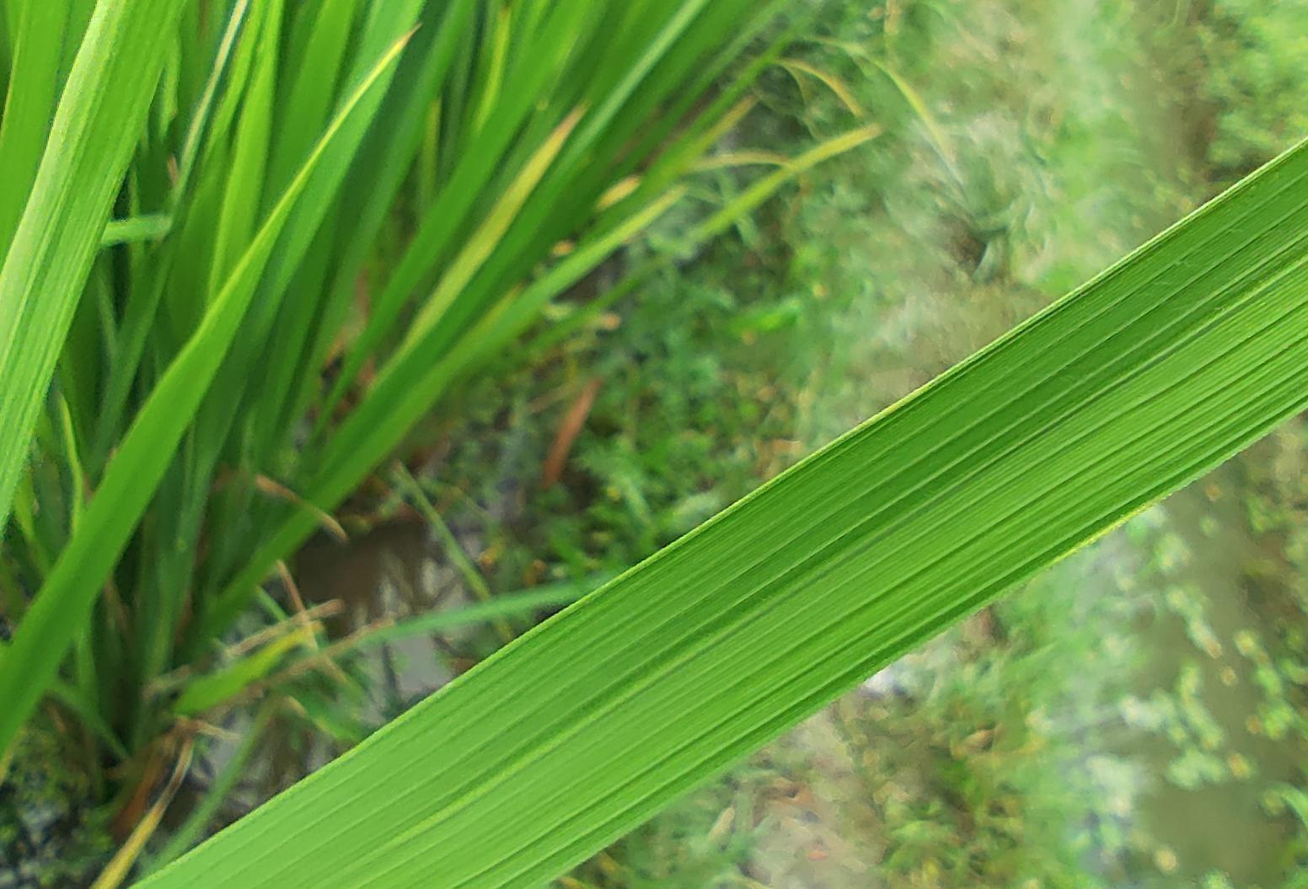Healthy: (142, 143, 1307, 888)
